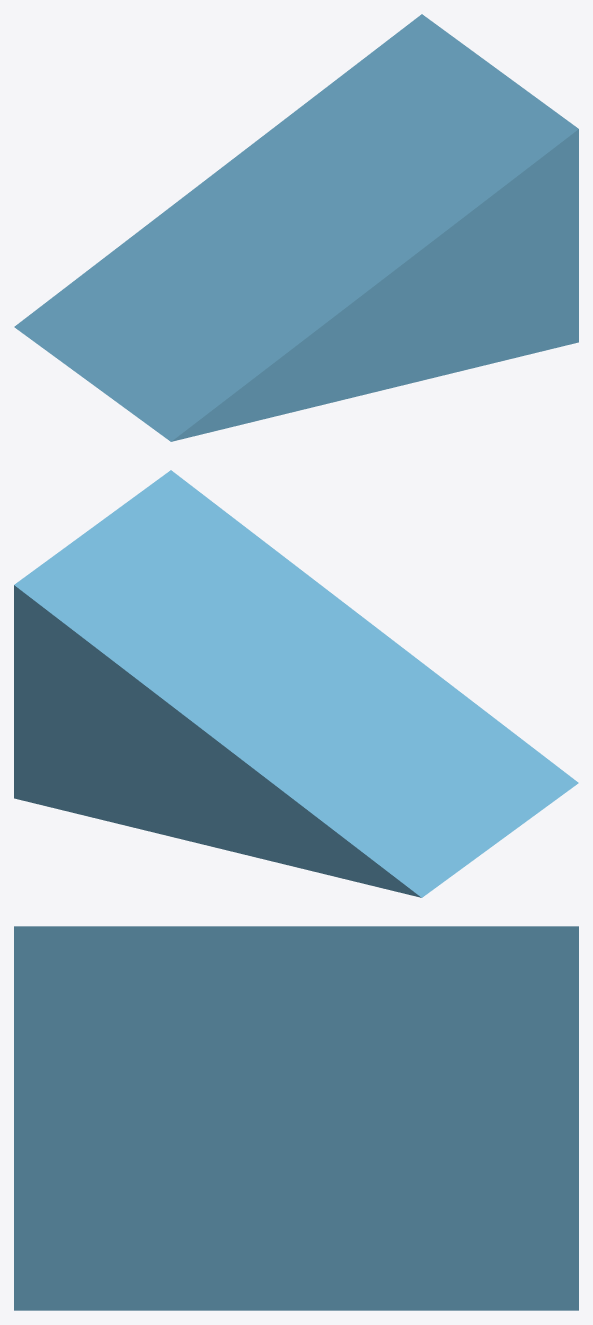
Rendered from modelo.glb.
The picture shows the model from 3 angles, top to bottom: view 1: azimuth 30°, elevation 25°; view 2: azimuth 150°, elevation 25°; view 3: azimuth 270°, elevation 25°; orthographic projection. The views are drawn at different scales.
Parts seen in each view (by area): view 1: Cuña; view 2: Cuña; view 3: Cuña.
Part boxes in pixels (<box>): Cuña: <box>14,14,578,441</box>; Cuña: <box>14,470,578,897</box>; Cuña: <box>14,926,578,1310</box>.
Bounding box in the file's own units: 0.06 × 0.03 × 0.04.
